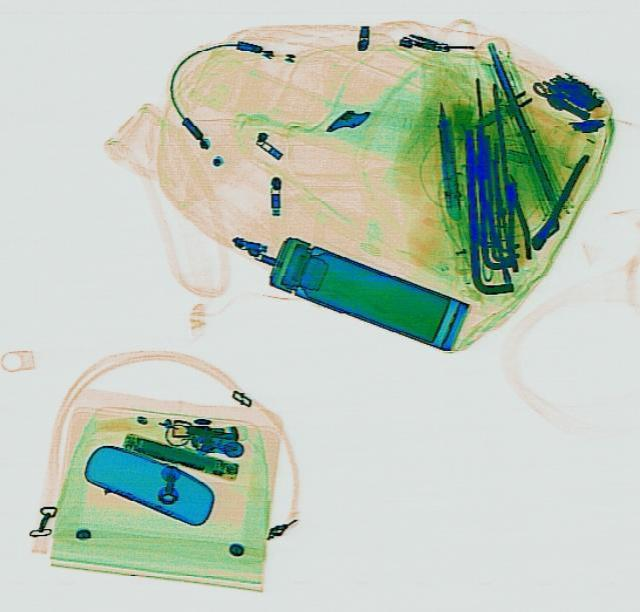Pliers: (494, 168, 534, 270)
Wrench: (521, 148, 595, 251)
